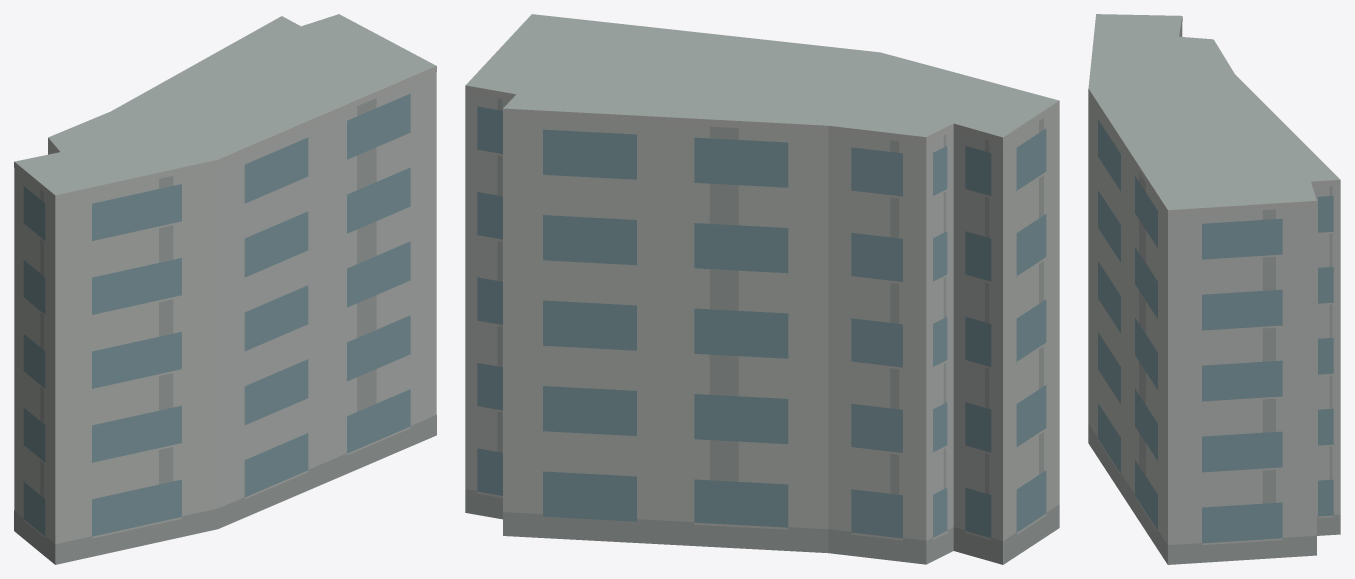
File: survey-upis-32518184.glb
3 views of the same model, side by side, from view 1: azimuth 30°, elevation 25°; view 2: azimuth 150°, elevation 25°; view 3: azimuth 270°, elevation 25° (orthographic). The views are drawn at different scales.
Visible parts, largest first — view 1: survey-upis-32518184.tmp; view 2: survey-upis-32518184.tmp; view 3: survey-upis-32518184.tmp.
Part boxes in pixels (x1,y1,x2,y2): survey-upis-32518184.tmp: (14,14,436,564); survey-upis-32518184.tmp: (465,14,1059,564); survey-upis-32518184.tmp: (1088,14,1340,564).
Size of the model in its own units: 17.21 by 14.5 by 9.35.
